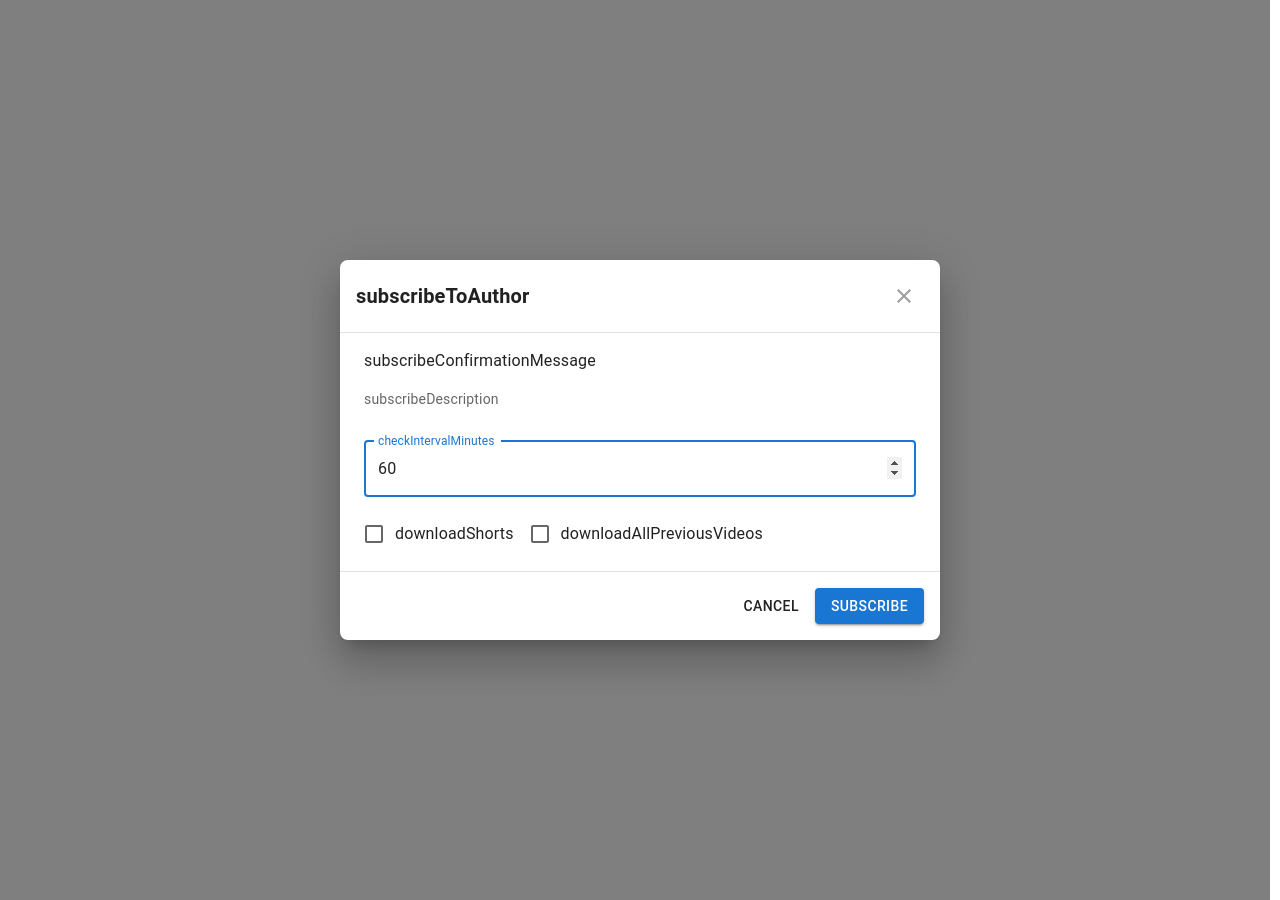
Test case: SubscribeModal › should show download order only when download all previous is checked
Expected: the field labelled "downloadOrder" is not shown
Click the checkbox labelled "downloadAllPreviousVideos" at (645,534), box [528,522,763,546]
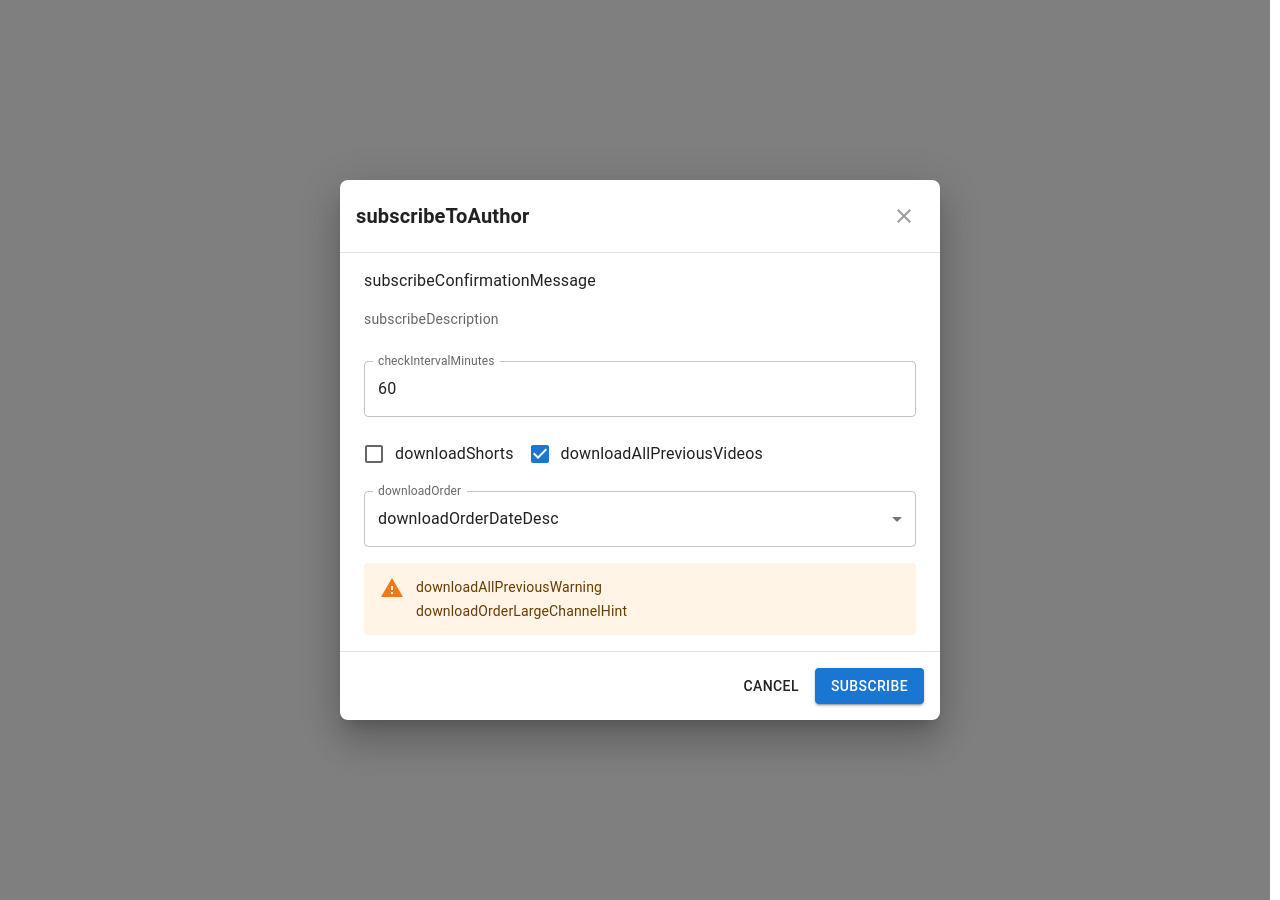
Expected: the dropdown labelled "downloadOrder" is shown, [378,509,559,528]
